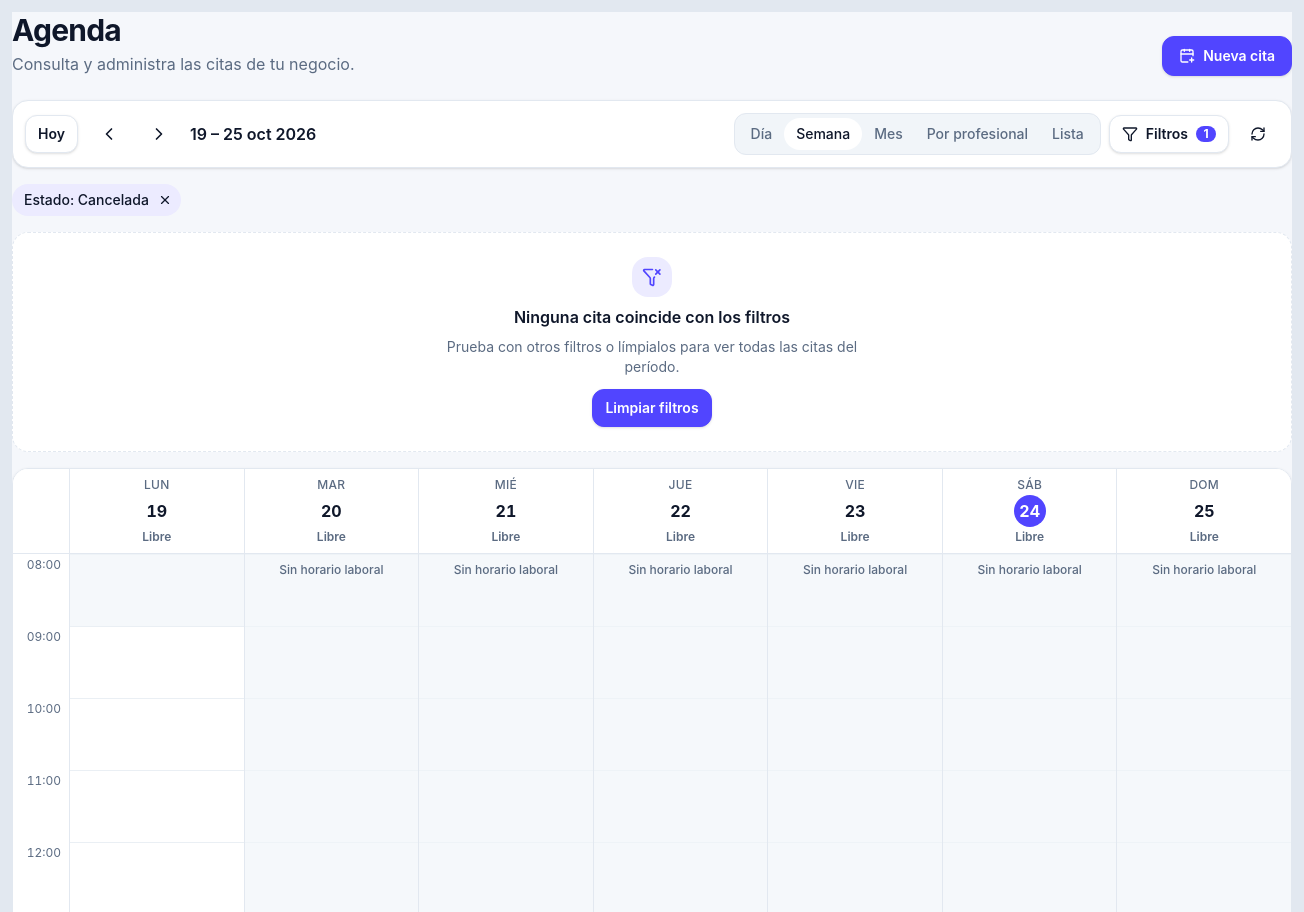
Test: CalendarPage (Agenda) › filtros sin resultados: mensaje distinto y 'Limpiar filtros' restablece la consulta
This screenshot has width=1304, height=912.
Expected: the text "Ninguna cita coincide con los filtros" is shown, [514,305,790,329]
Expected: the text "No hay citas en este período" is not shown
Click the button "Limpiar filtros": [652, 408] box [592,389,712,427]
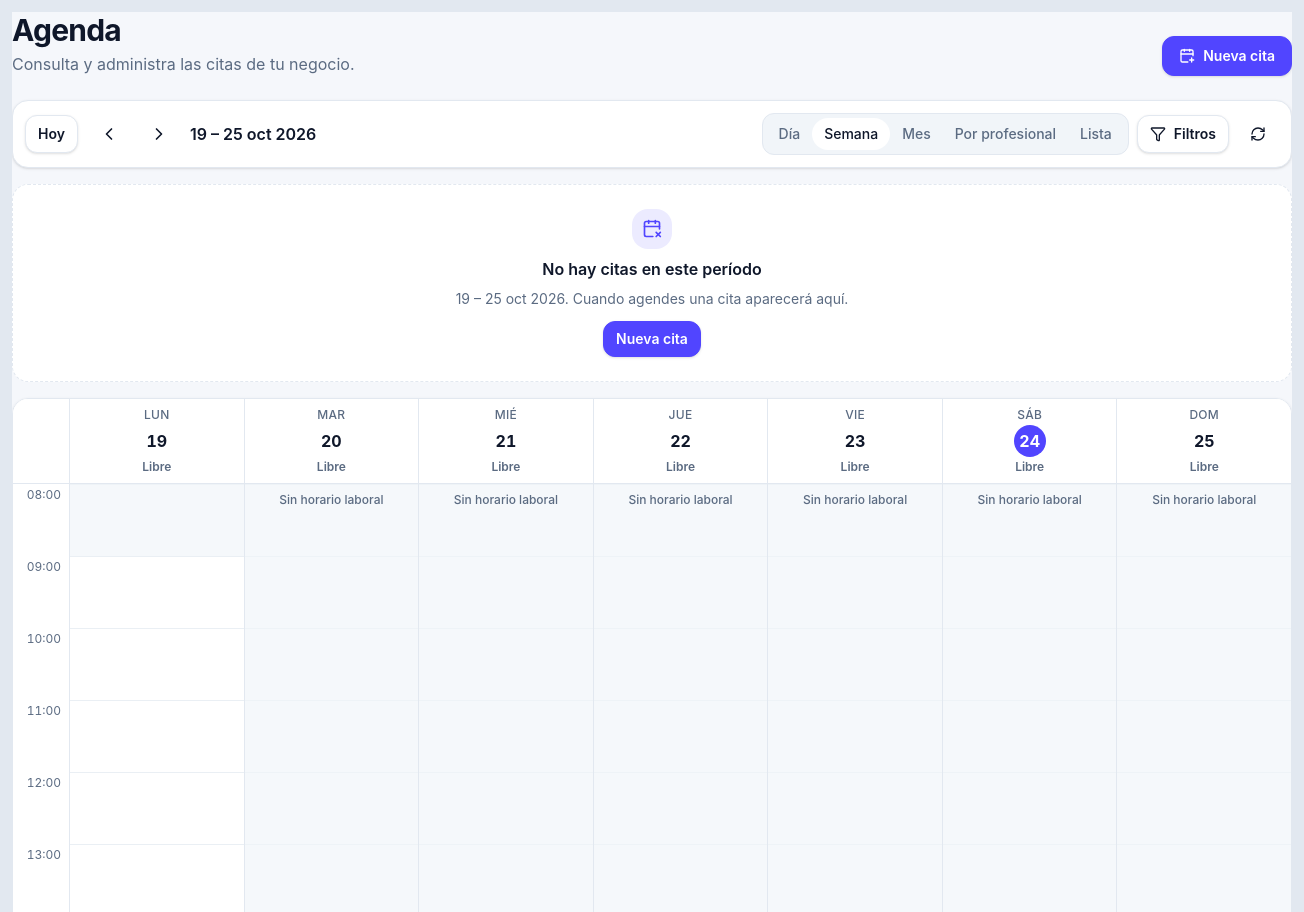
Result: the text "No hay citas en este período" is shown at [542,257,762,281]
